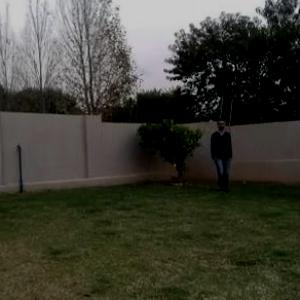follow: (213, 115, 233, 198)
